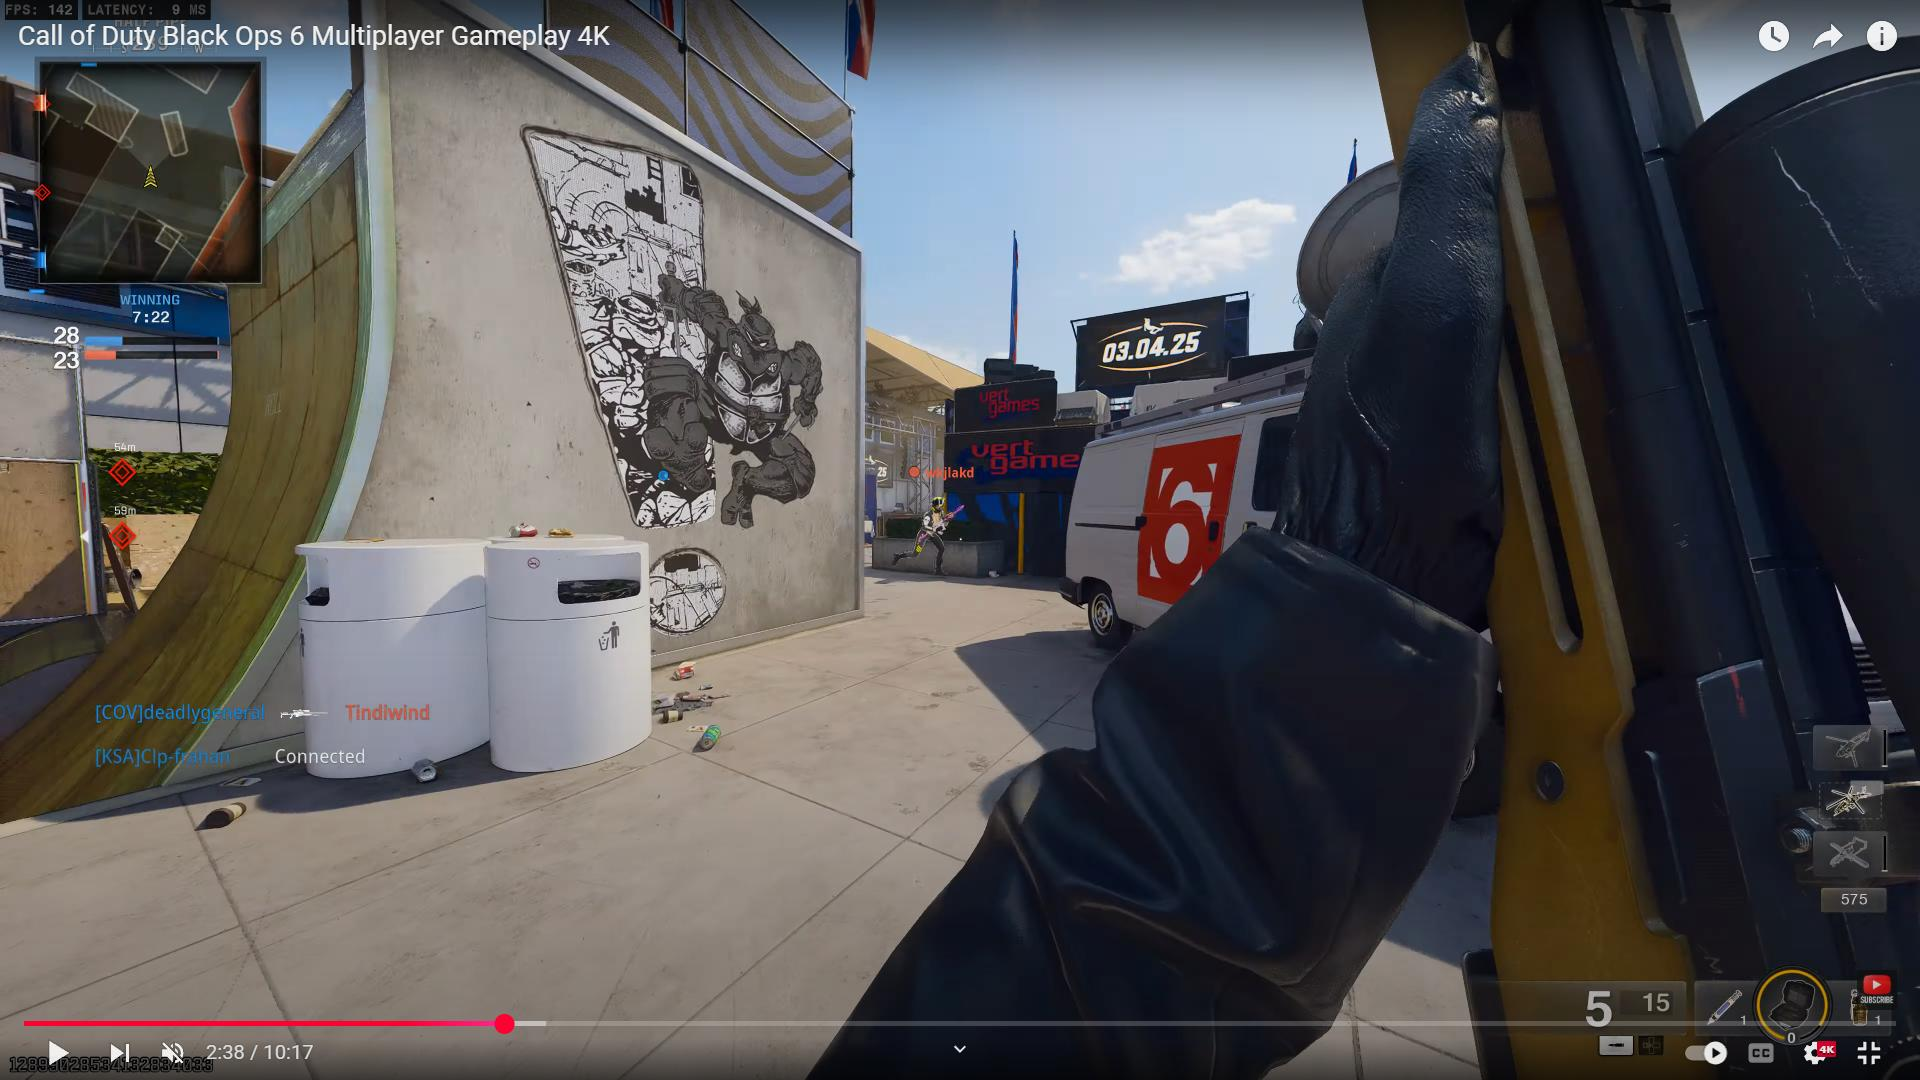Enemy: (902, 493, 961, 571)
